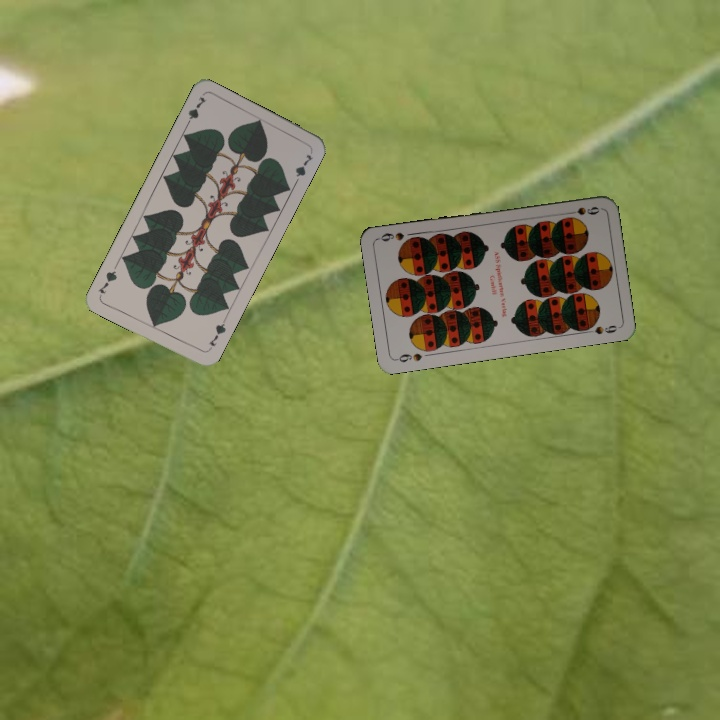G7: (181, 92, 209, 130), (203, 316, 228, 354)
S9: (562, 203, 602, 218), (392, 349, 425, 365)
